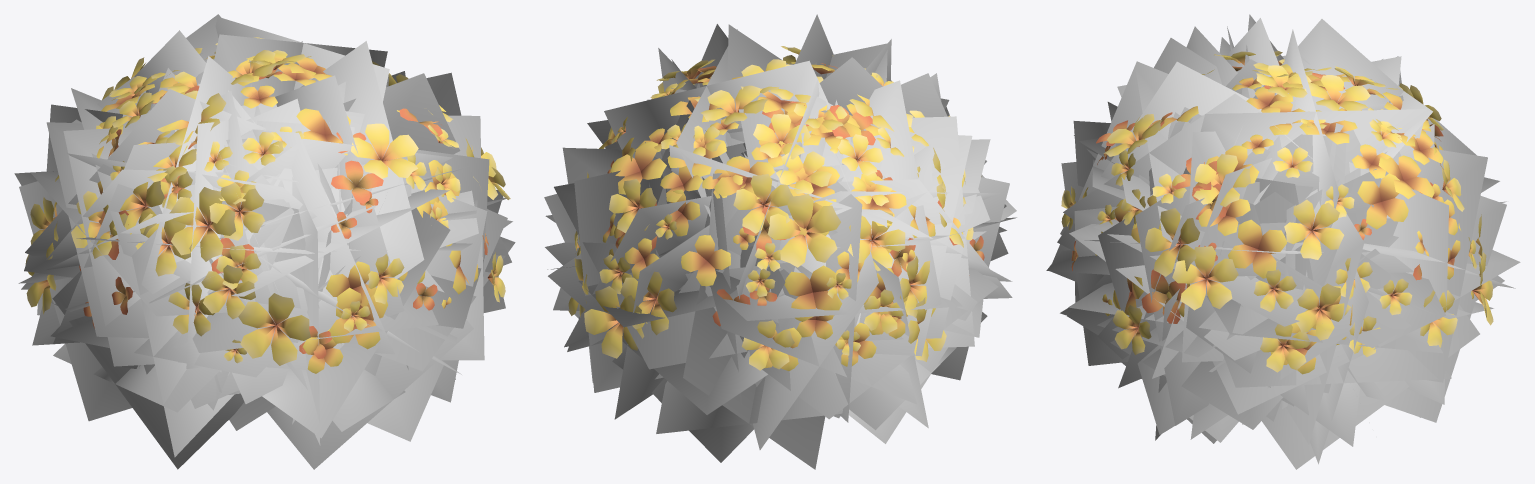
File: flowerbushes.fbx
The picture shows the model from 3 angles, left to right: view 1: azimuth 30°, elevation 25°; view 2: azimuth 150°, elevation 25°; view 3: azimuth 270°, elevation 25°; orthographic projection. The views are drawn at different scales.
Visible parts, largest first — view 1: Regular_Bushes, Flowers1, Flowers3, Flowers2; view 2: Regular_Bushes, Flowers1, Flowers3, Flowers2; view 3: Regular_Bushes, Flowers1, Flowers3, Flowers2.
Part boxes in pixels (x1,y1,x2,y2): Regular_Bushes: [14, 14, 515, 469]; Flowers1: [25, 37, 510, 365]; Flowers3: [53, 55, 478, 373]; Flowers2: [79, 69, 488, 358]; Regular_Bushes: [544, 14, 1016, 469]; Flowers1: [568, 46, 981, 370]; Flowers3: [602, 62, 935, 370]; Flowers2: [607, 63, 984, 326]; Regular_Bushes: [1046, 14, 1520, 469]; Flowers1: [1061, 51, 1493, 372]; Flowers3: [1082, 65, 1473, 374]; Flowers2: [1071, 61, 1443, 323].
Size of the model in its own units: 169 by 154 by 170.
